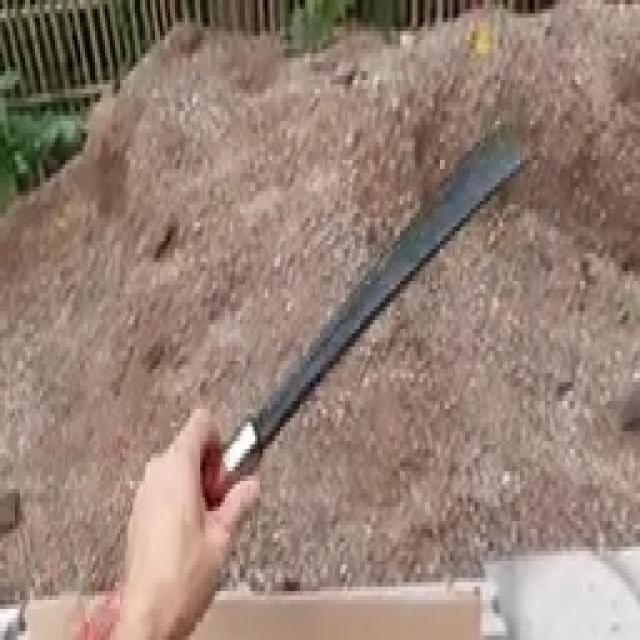eto: (85, 114, 536, 640)
